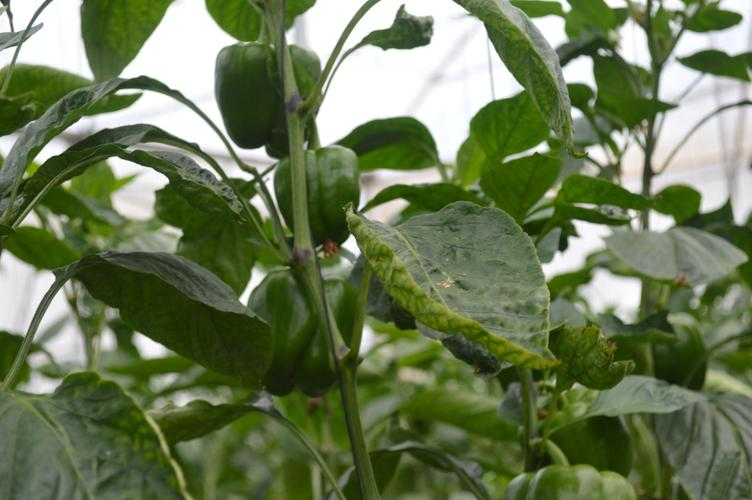BellPepper: (232, 258, 359, 392), (213, 38, 320, 162), (264, 150, 374, 243), (623, 301, 710, 395), (496, 462, 635, 500)
